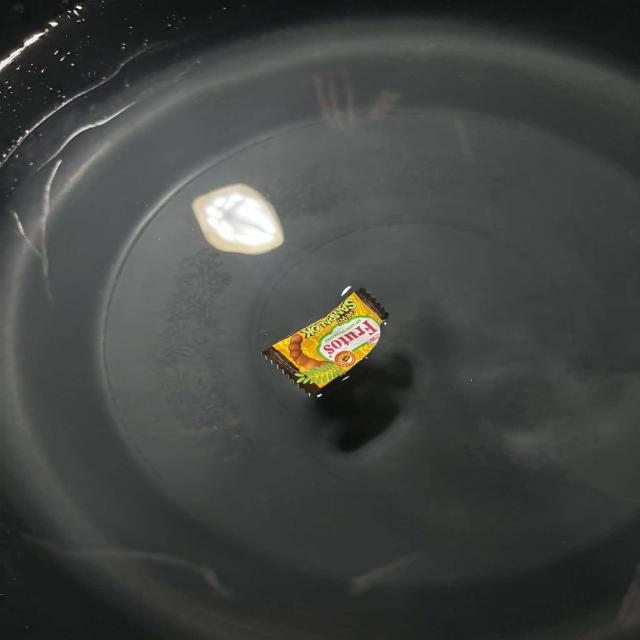Plastic Wrapper: (262, 288, 388, 397)
